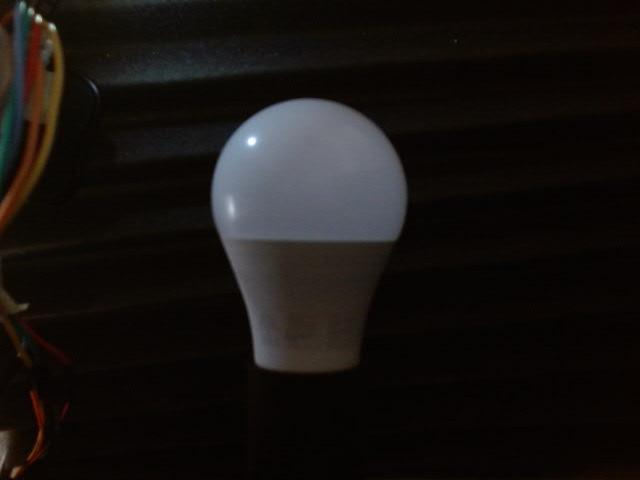Fan: (202, 91, 413, 302)
